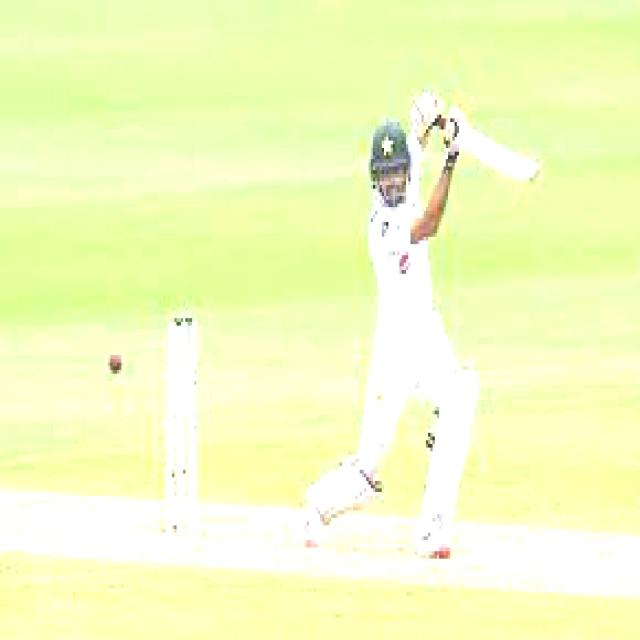toe: (514, 146, 541, 192)
